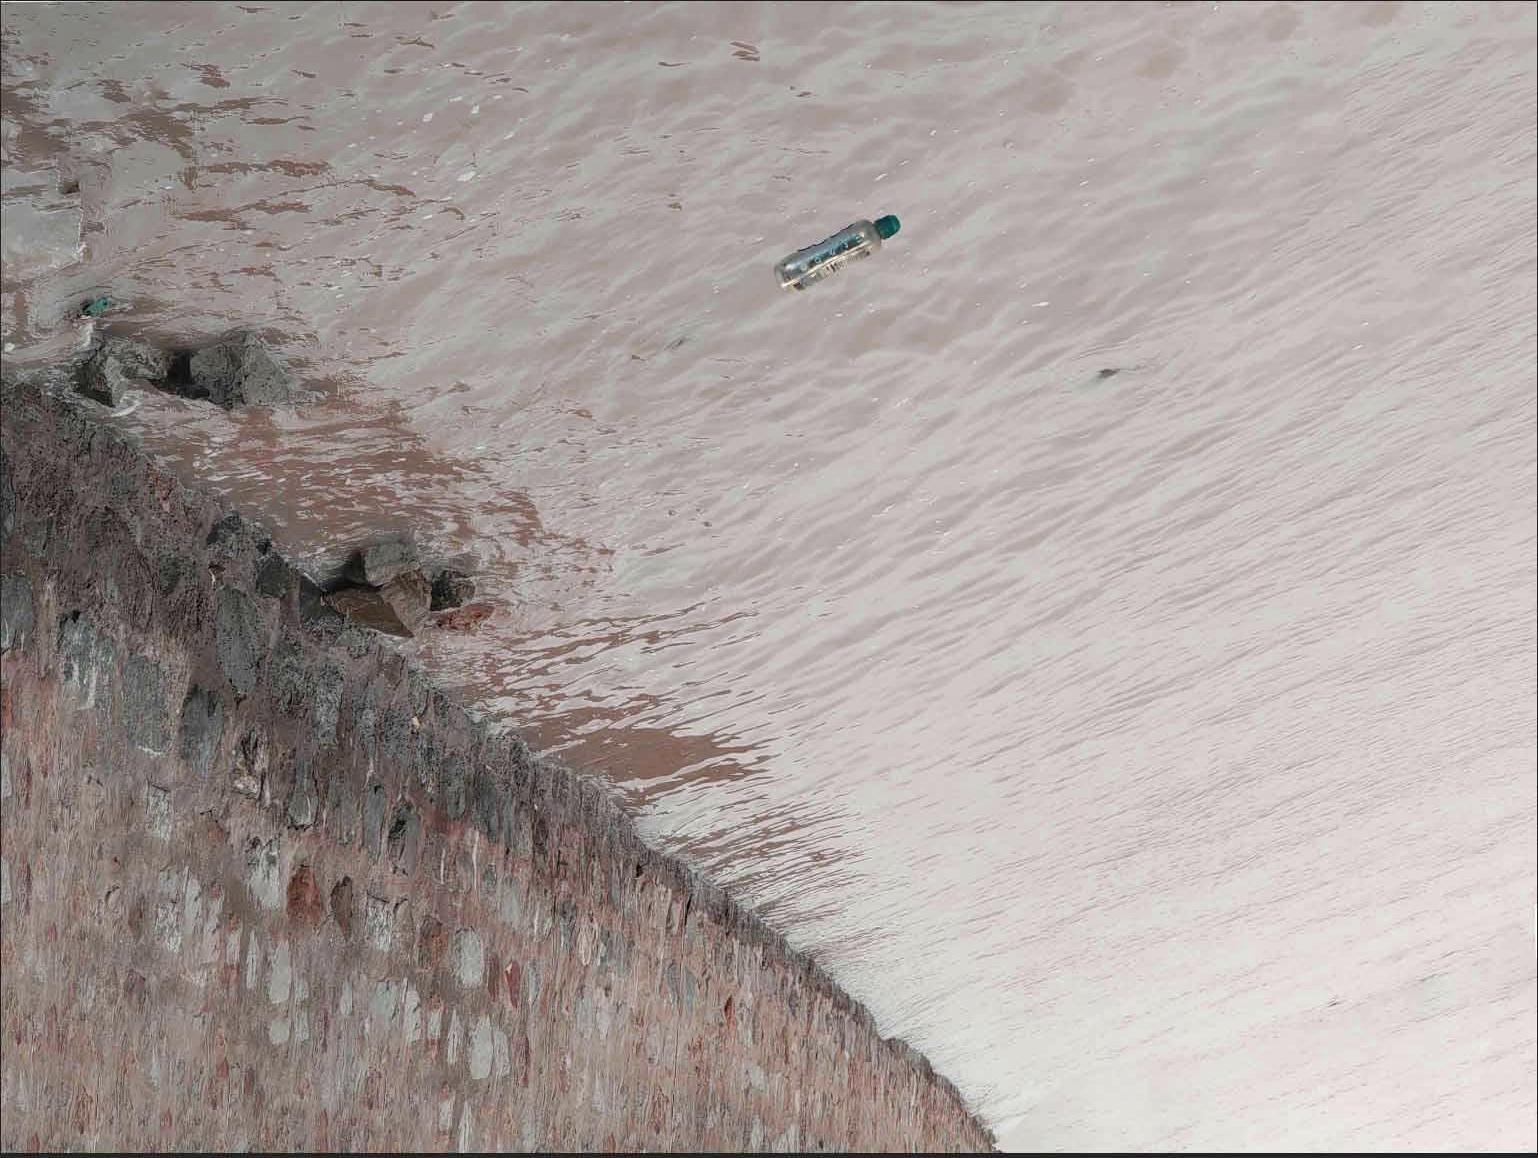Plastic: (767, 207, 907, 296)
